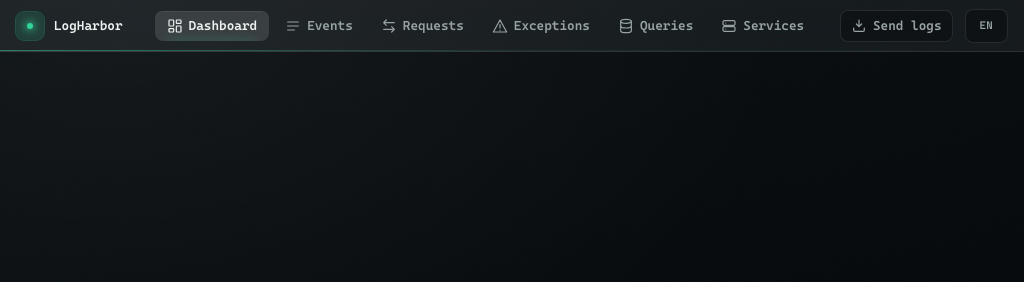
Test: switches visible link labels when the language toggle is clicked
Expected: the link "Events" is shown, [285,18,353,34]
Step 1. Click the button "EN" → (986, 26), box [968,12,1005,40]
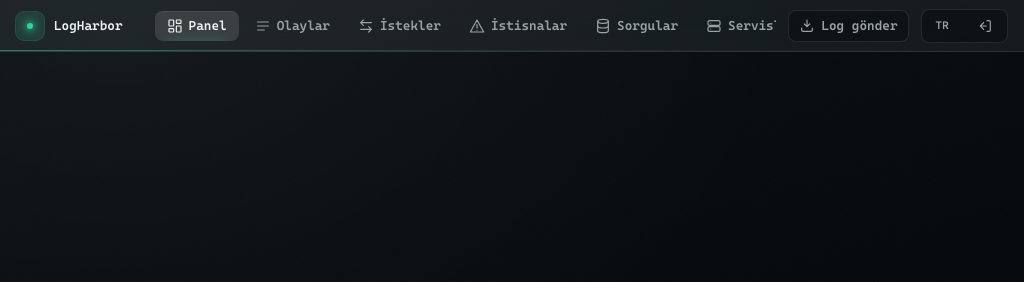
Now the link "Olaylar" is shown, box [255,18,330,34]
Now the link "Events" is gone
